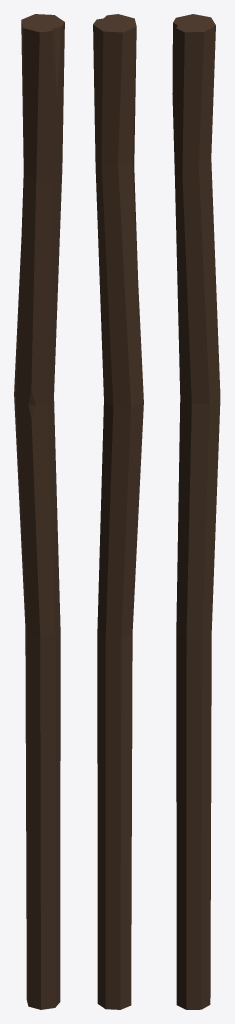
The model's file is Pillar_1.fbx.
The picture shows the model from 3 angles, left to right: view 1: azimuth 30°, elevation 25°; view 2: azimuth 210°, elevation 25°; view 3: azimuth 270°, elevation 25°; orthographic projection.
Visible parts, largest first — view 1: Pillar_1; view 2: Pillar_1; view 3: Pillar_1.
Boxes of the visible parts, bbox=[...] form: Pillar_1: bbox=[14, 14, 64, 1009]; Pillar_1: bbox=[93, 14, 143, 1009]; Pillar_1: bbox=[172, 14, 220, 1009].
Size of the model in its own units: 29.8 by 29.81 by 671.
